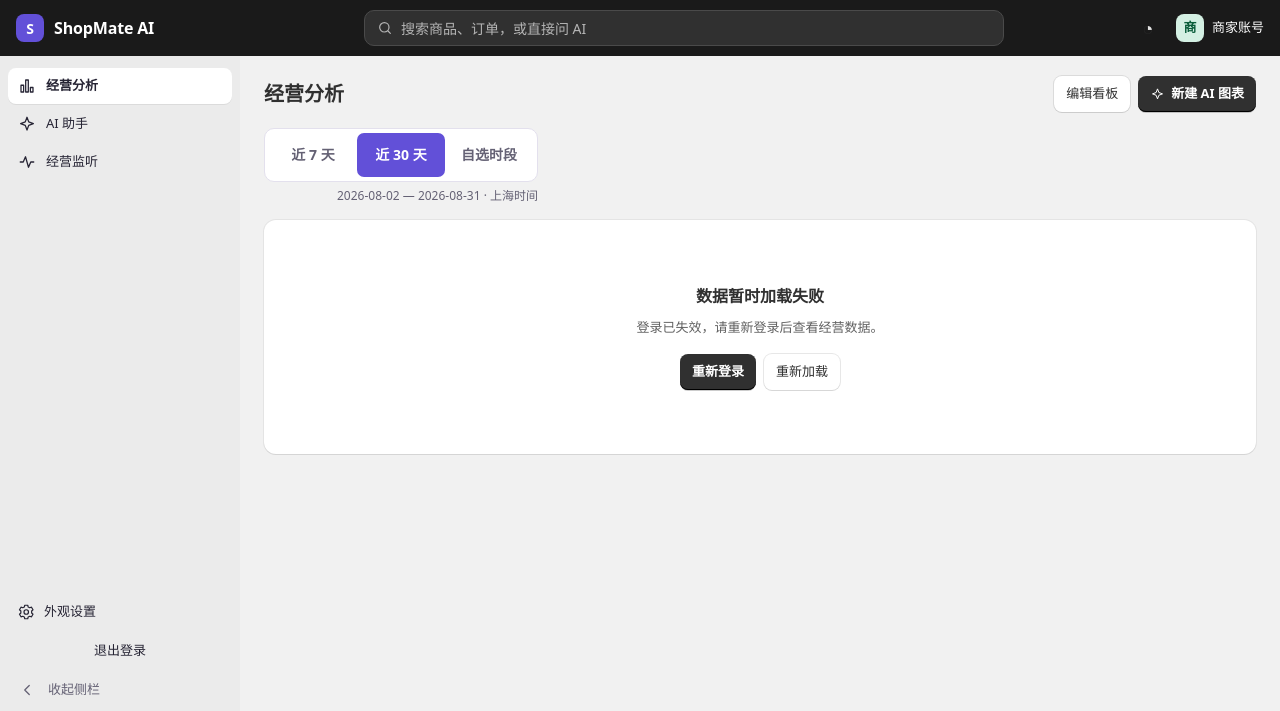
Test case: AnalyticsClient › offers re-login on 401 and retries on demand
The image size is (1280, 711).
Click the button "重新加载".
click(802, 372)  # box [764,354,840,390]
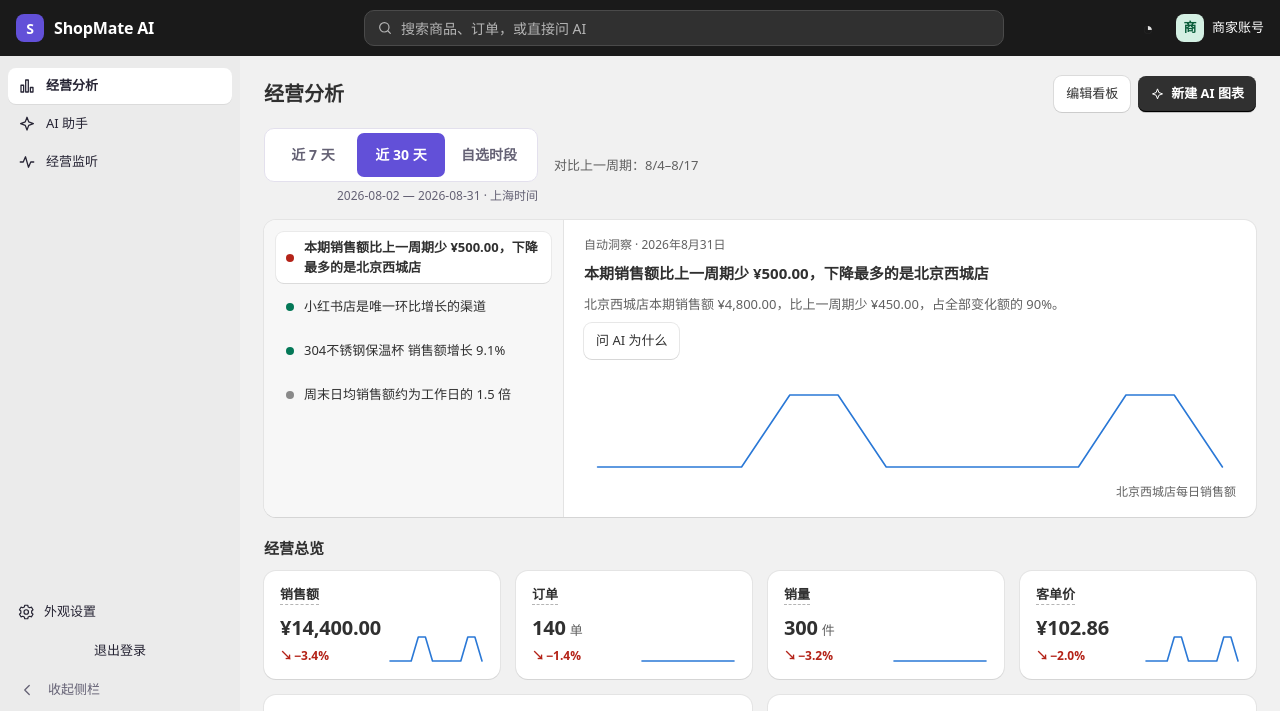
Now the element named "经营指标" is shown, box [264,571,1256,679]
